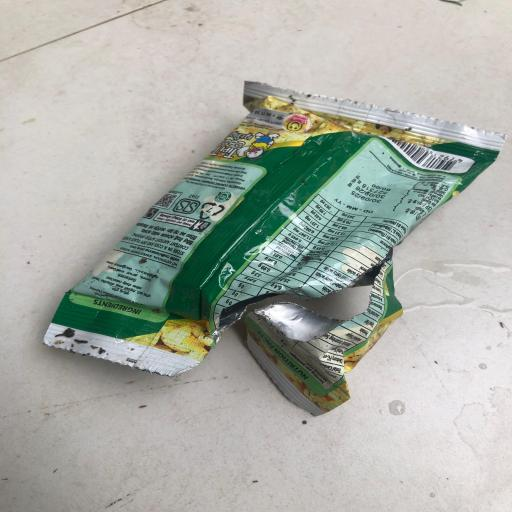waste: (40, 61, 508, 423)
